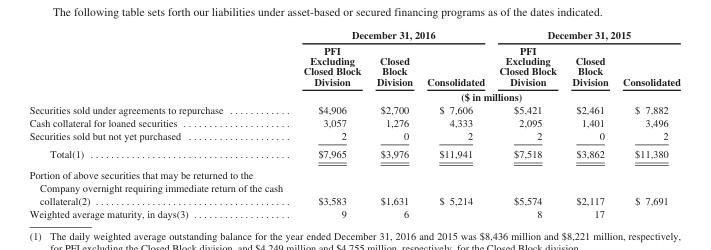table: (28, 28, 679, 218)
table column: (28, 28, 292, 218), (292, 28, 368, 218), (419, 28, 491, 218), (491, 28, 563, 218), (614, 28, 679, 218), (368, 28, 419, 218), (563, 28, 614, 218)
table column header: (28, 28, 679, 103)
table row: (28, 42, 679, 88), (28, 163, 679, 206), (28, 144, 679, 163), (28, 88, 679, 103), (28, 129, 679, 144), (28, 28, 679, 42), (28, 103, 679, 116), (28, 116, 679, 129), (28, 206, 679, 218)
table spanning cell: (292, 88, 679, 103), (292, 28, 491, 42), (491, 28, 679, 42)
